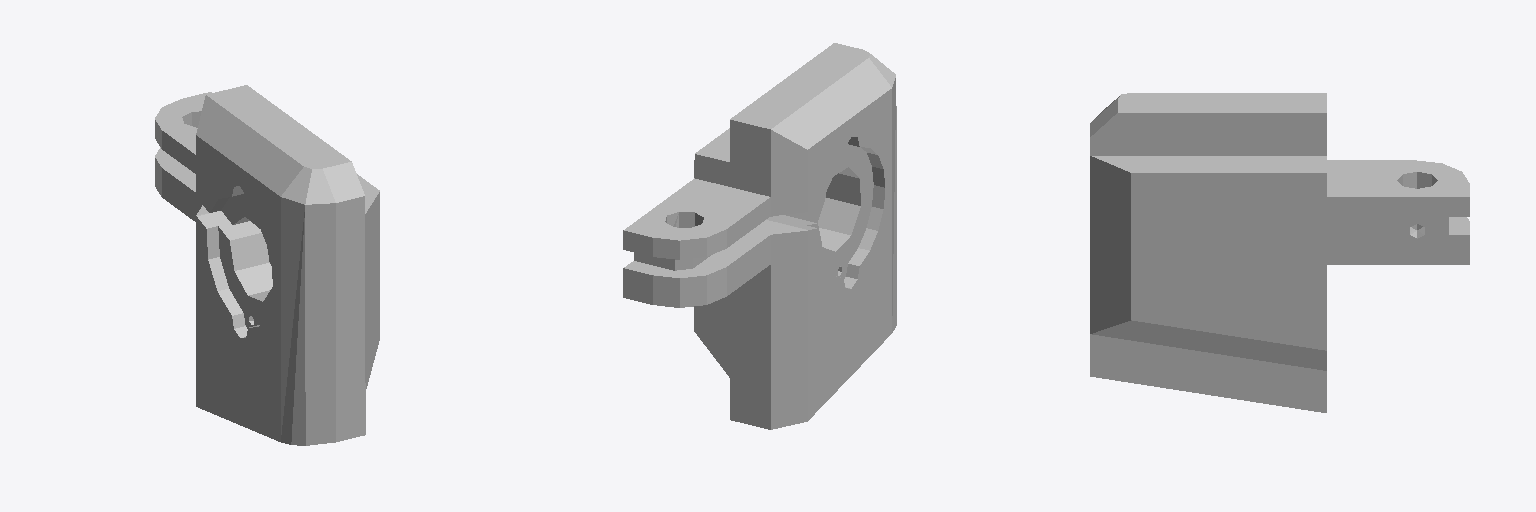
The model's file is legr_toe_joint.obj.
The picture shows the model from 3 angles: view 1: azimuth 30°, elevation 25°; view 2: azimuth 150°, elevation 25°; view 3: azimuth 270°, elevation 25°; orthographic projection.
Size of the model in its own units: 0.017 by 0.049 by 0.056.